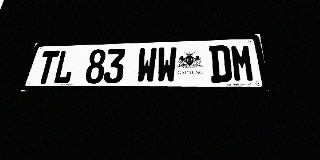3: (103, 48, 126, 83)
8: (84, 49, 108, 84)
D: (209, 45, 233, 82)
L: (52, 50, 77, 84)
M: (230, 44, 256, 82)
T: (34, 51, 60, 84)
W: (136, 47, 157, 83), (156, 47, 177, 83)
